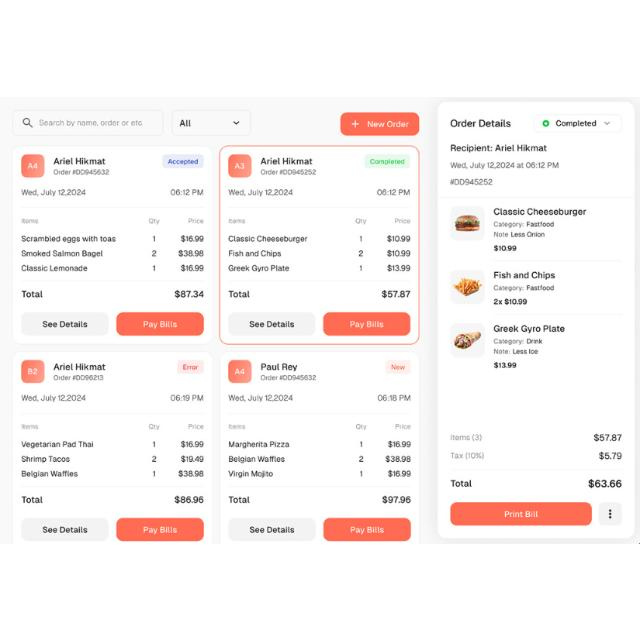QLabel: (450, 142, 548, 152), (449, 161, 558, 169), (494, 207, 586, 216), (20, 234, 116, 242), (22, 249, 102, 257), (228, 234, 308, 242), (451, 117, 512, 127), (494, 270, 554, 280), (22, 440, 94, 448), (494, 324, 564, 332), (21, 264, 87, 272), (228, 189, 294, 197), (21, 394, 87, 402), (228, 394, 292, 402), (228, 264, 290, 272), (228, 440, 290, 448), (41, 525, 88, 535), (22, 188, 86, 195), (228, 455, 284, 463), (228, 249, 282, 257), (260, 157, 314, 165), (54, 157, 106, 165), (54, 362, 106, 370), (261, 168, 317, 175), (21, 469, 77, 476), (366, 119, 409, 128), (260, 362, 298, 372), (42, 319, 88, 327), (249, 320, 295, 328), (249, 526, 295, 534), (449, 177, 493, 185), (228, 469, 272, 477), (588, 478, 622, 488), (350, 319, 384, 329), (54, 168, 110, 174), (260, 374, 316, 380), (52, 374, 104, 380), (381, 494, 411, 504), (21, 456, 70, 462), (142, 526, 178, 534), (376, 394, 412, 402), (594, 432, 622, 442), (450, 452, 484, 460), (504, 510, 538, 518), (144, 320, 178, 328), (350, 526, 384, 534), (376, 188, 409, 196), (494, 297, 526, 305), (170, 187, 202, 195), (170, 394, 204, 401), (174, 495, 203, 503), (526, 220, 554, 228), (450, 434, 482, 441), (175, 290, 203, 298), (382, 290, 410, 298), (228, 494, 250, 504), (178, 469, 205, 477), (178, 249, 204, 257), (370, 158, 404, 164), (511, 231, 544, 237), (388, 439, 410, 448), (598, 452, 622, 460), (180, 235, 204, 243), (387, 234, 411, 242), (180, 454, 204, 462), (386, 454, 410, 462), (387, 469, 411, 477), (180, 263, 203, 271), (386, 263, 409, 271), (21, 496, 44, 504), (494, 221, 524, 227), (494, 284, 524, 290), (494, 338, 524, 344), (168, 158, 198, 164), (21, 290, 43, 298), (228, 290, 250, 298), (181, 440, 203, 448), (526, 284, 554, 290), (451, 479, 472, 487), (512, 348, 538, 354), (385, 250, 411, 256), (494, 243, 516, 250), (20, 216, 38, 224), (20, 424, 40, 431), (188, 422, 205, 430), (228, 422, 245, 430), (494, 362, 516, 368), (182, 362, 198, 370), (494, 230, 508, 238), (188, 216, 202, 224), (396, 422, 410, 430), (228, 218, 246, 224), (494, 348, 510, 354), (148, 216, 160, 224), (390, 364, 406, 370), (354, 217, 368, 223), (356, 422, 366, 430), (526, 338, 544, 342), (393, 218, 411, 222), (148, 423, 160, 429), (151, 440, 157, 448), (358, 456, 364, 462), (152, 234, 156, 242), (359, 234, 363, 242), (152, 454, 156, 462), (152, 250, 156, 256), (359, 250, 363, 256), (359, 264, 363, 270), (153, 471, 157, 477), (360, 469, 362, 476), (154, 264, 156, 270), (360, 441, 362, 447)
VBtn: (450, 500, 592, 526), (116, 311, 204, 335), (227, 311, 315, 335), (116, 517, 204, 541), (324, 311, 411, 335), (22, 311, 108, 335), (22, 517, 108, 541), (323, 518, 411, 540), (228, 518, 316, 540), (340, 111, 420, 135)
VCard: (437, 100, 637, 540), (218, 143, 420, 345), (11, 144, 212, 346), (10, 350, 212, 542), (220, 351, 420, 544)
VChip: (162, 152, 204, 168), (364, 153, 410, 167), (176, 358, 204, 374), (385, 358, 411, 374)
VCombobox: (172, 108, 252, 136), (534, 114, 622, 132)
VDivider: (22, 484, 205, 488), (227, 411, 409, 415), (227, 204, 409, 208), (22, 278, 202, 282), (21, 411, 203, 414), (438, 196, 634, 198), (228, 484, 414, 486), (21, 206, 205, 208), (229, 280, 411, 282), (450, 468, 624, 470), (496, 259, 622, 261), (492, 314, 622, 314)
VFileInput: (22, 154, 44, 176)
VIcon: (21, 359, 45, 383), (228, 153, 252, 177), (228, 360, 252, 382), (352, 119, 358, 127), (608, 508, 612, 518)
VImg: (448, 268, 486, 304), (450, 205, 484, 239), (450, 322, 484, 356)
VTextField: (12, 108, 164, 136)
